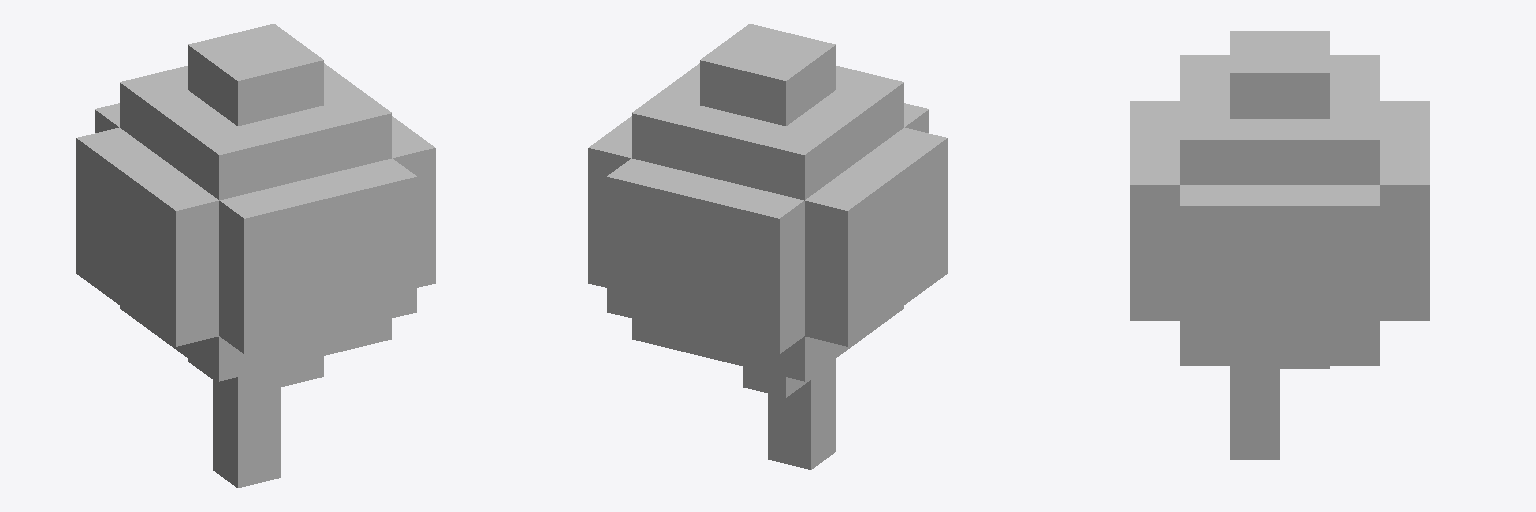
Rendered from Bush_Small.obj.
3 renders of one model, left to right at view 1: azimuth 30°, elevation 25°; view 2: azimuth 150°, elevation 25°; view 3: azimuth 270°, elevation 25°, orthographic.
Parts seen in each view (by area): view 1: Bush_Small; view 2: Bush_Small; view 3: Bush_Small.
Boxes of the visible parts, <box> form: Bush_Small: <box>76,24,435,487</box>; Bush_Small: <box>588,24,947,469</box>; Bush_Small: <box>1130,31,1429,459</box>.
Bounding box in the file's own units: 6 × 9 × 6.